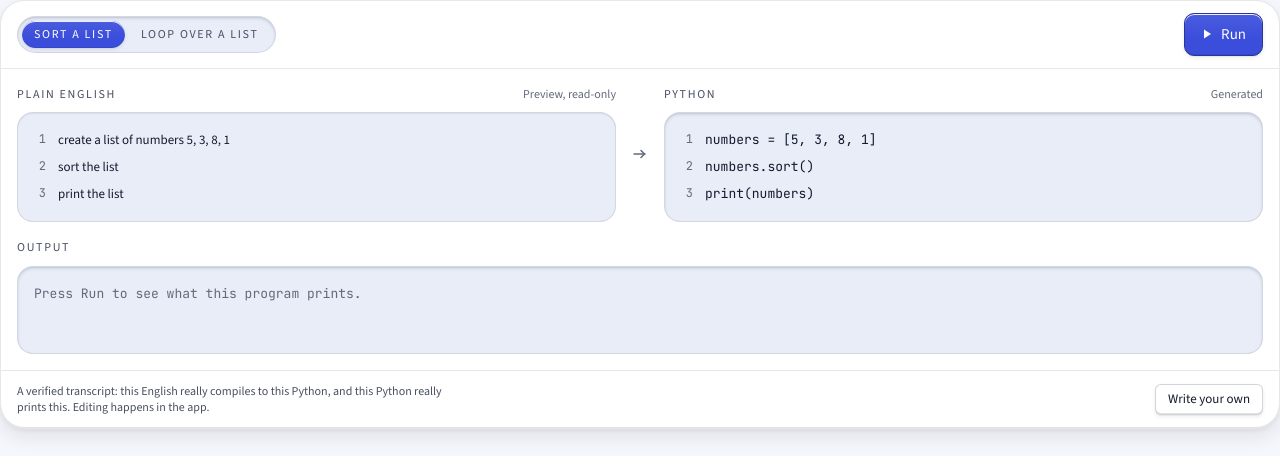
HeroDemo › reveals the real output when Run is pressed, one line at a time
Click the button "Run": x=1224, y=34 [1184,13,1263,56]
Wait 1000 ms
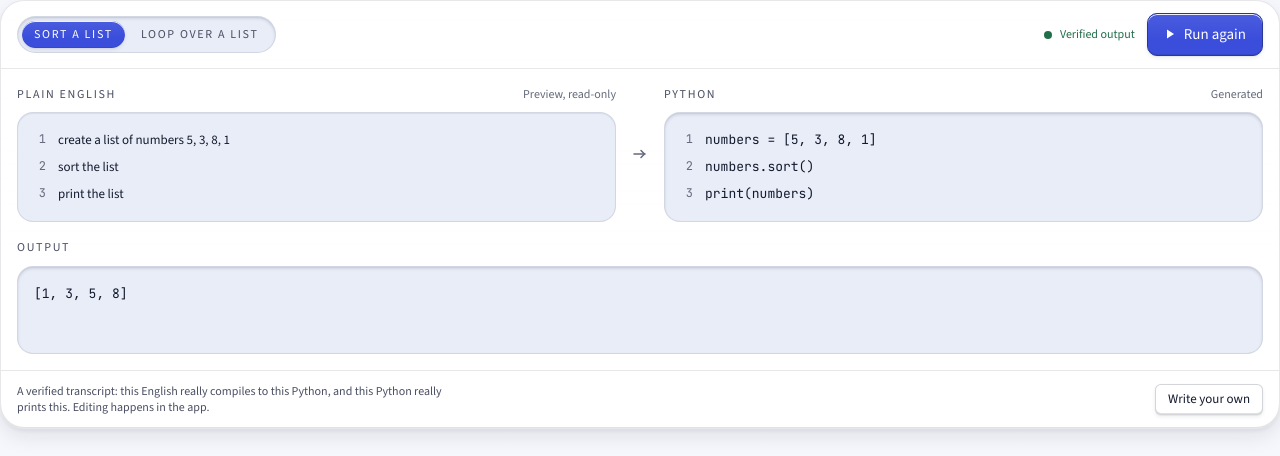
Expected: the text "[1, 3, 5, 8]" is shown, [34,285,128,302]
Now the button "Run again" is shown, box [1147,13,1263,56]
